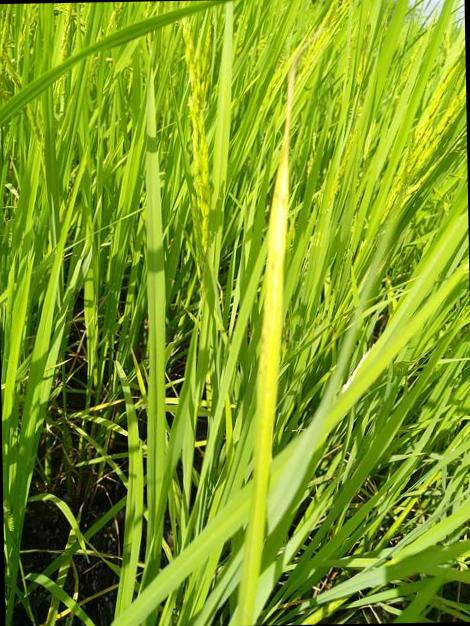Leaf Blight: (227, 39, 312, 626)
